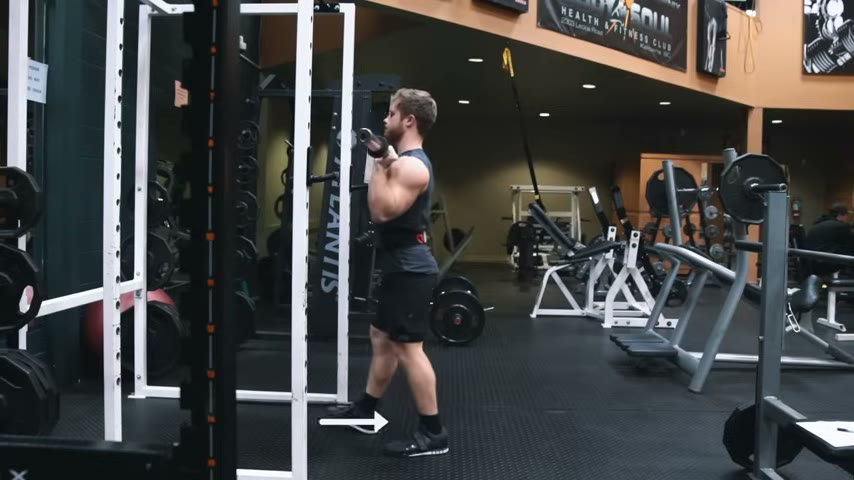barbell_plate_side: (438, 270, 492, 350)
